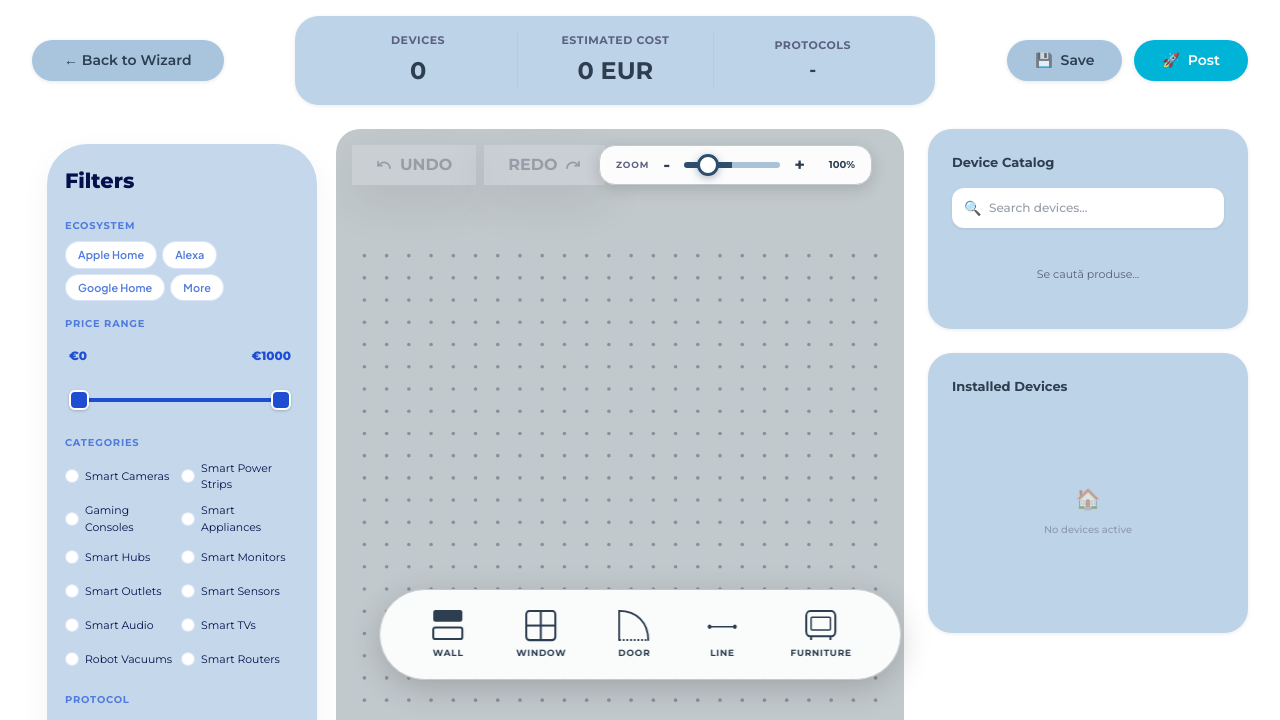
Scenario: LayoutCanvas - Suita de Testare › Afișează mesajul de empty state când căutarea nu are rezultate
Type "termen_de_cautare_inexistent_123" into the field with placeholder "Search devices...". click: point(1088, 208)
box: left=952, top=188, right=1224, bottom=228
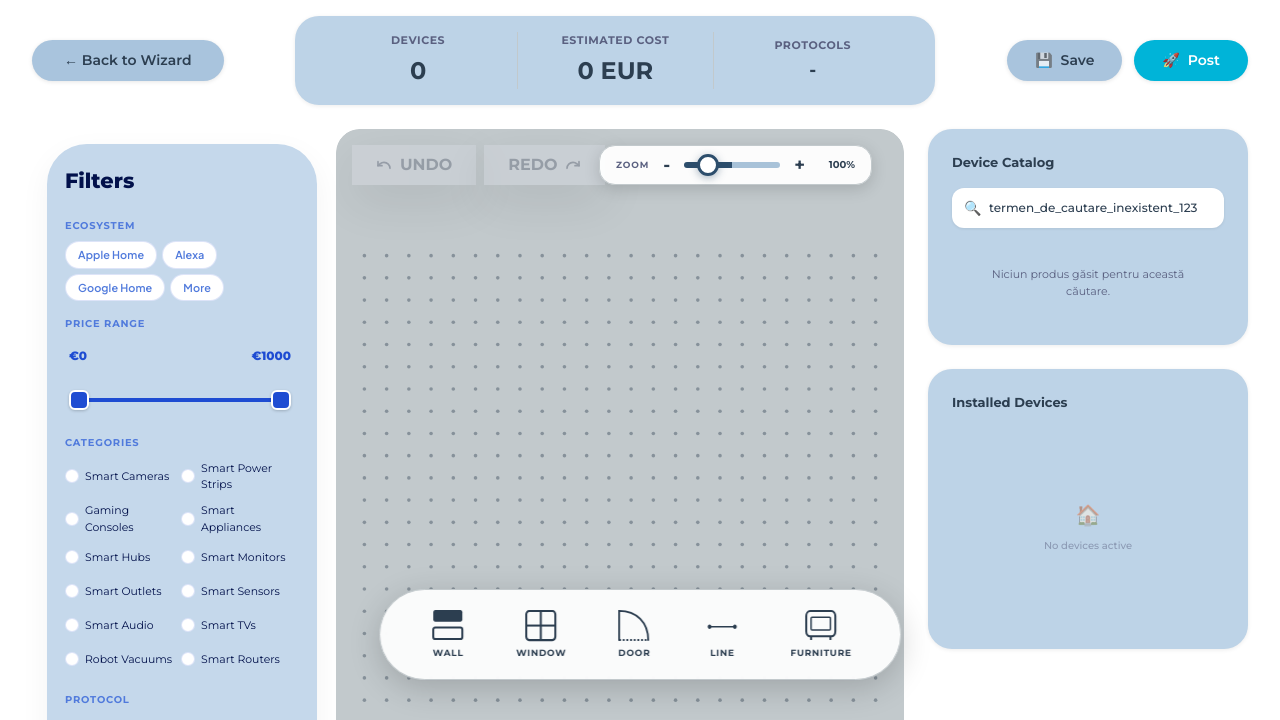
Now the text "Niciun produs găsit pentru această căutare." is shown, box left=992, top=267, right=1184, bottom=298
